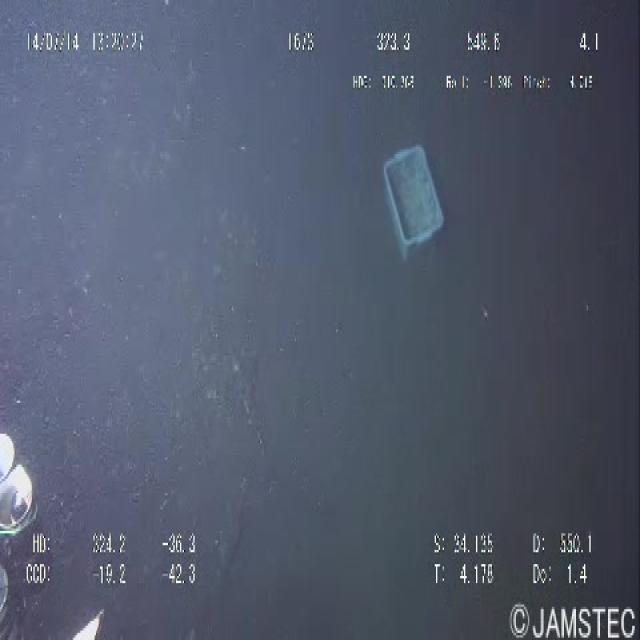plastic: (372, 107, 447, 277)
